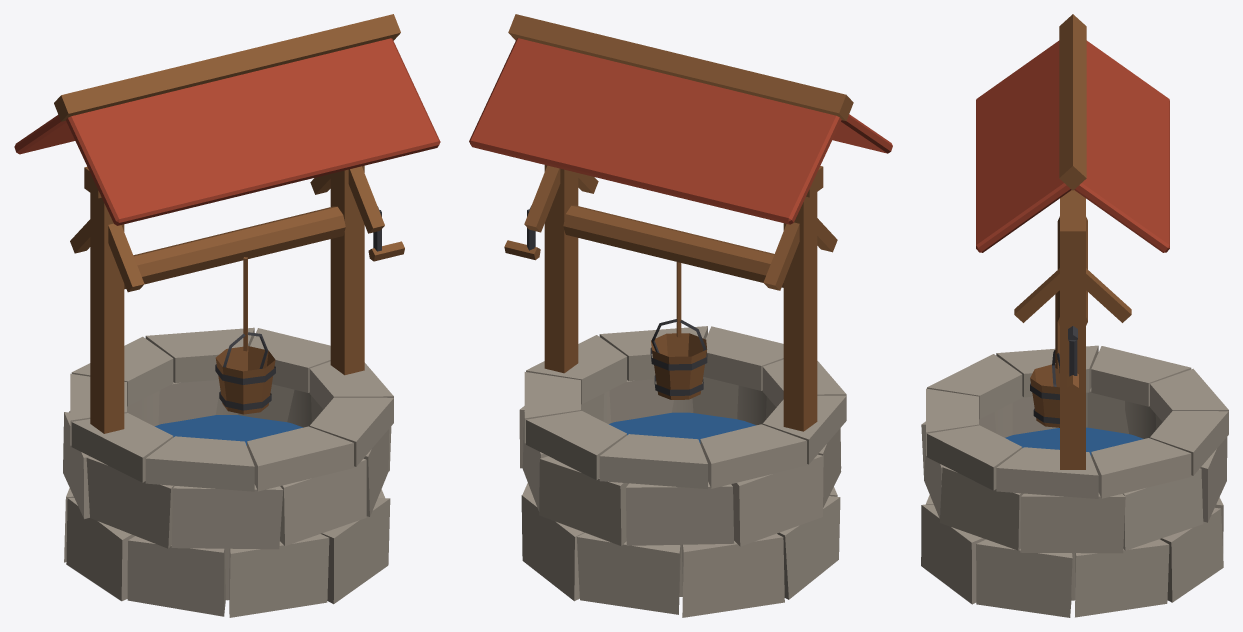
File: well.glb
3 renders of one model, left to right at view 1: azimuth 30°, elevation 25°; view 2: azimuth 150°, elevation 25°; view 3: azimuth 270°, elevation 25°, orthographic. The views are drawn at different scales.
Parts seen in each view (by area): view 1: well; view 2: well; view 3: well.
Part boxes in pixels (x1=…): well: x1=14, y1=14, x2=440, y2=617; well: x1=469, y1=14, x2=892, y2=617; well: x1=921, y1=14, x2=1228, y2=617.
Size of the model in its own units: 1.7 by 2.37 by 1.42.
